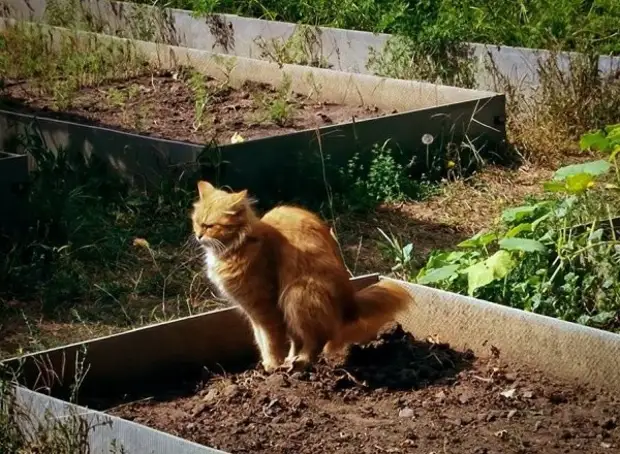cat: (184, 178, 423, 378)
